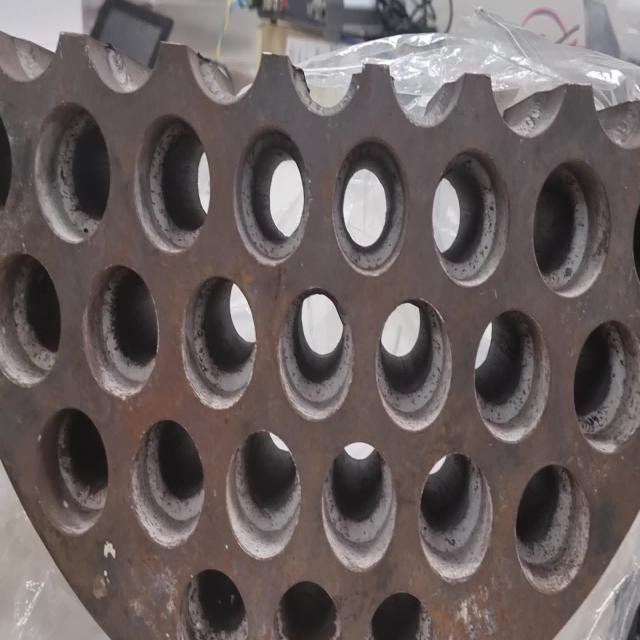Hole: (232, 124, 311, 266), (532, 158, 612, 298), (33, 102, 111, 245), (331, 134, 408, 278), (431, 148, 510, 288), (133, 113, 211, 254), (473, 306, 552, 444), (277, 286, 355, 422), (83, 262, 159, 400), (375, 296, 452, 432), (181, 274, 257, 411), (418, 450, 494, 584), (515, 462, 591, 594), (321, 441, 396, 572), (226, 430, 301, 560), (130, 418, 205, 548), (572, 318, 640, 456), (37, 406, 109, 536), (1, 251, 62, 387), (176, 566, 250, 640), (273, 578, 342, 640)
